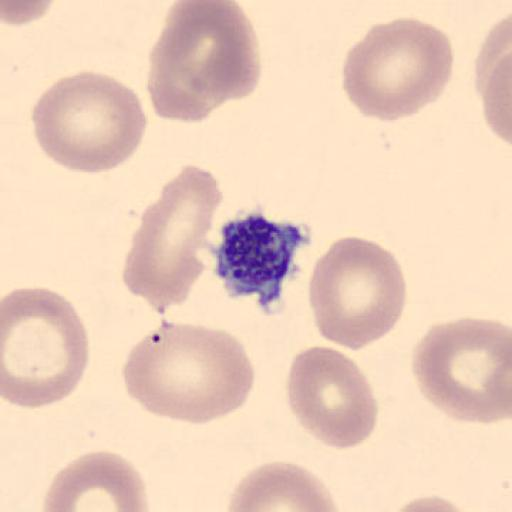Platelet: (211, 209, 308, 310)
RBC: (121, 164, 220, 312), (146, 0, 262, 126), (122, 322, 256, 424), (30, 68, 148, 176), (340, 16, 456, 124), (306, 236, 409, 351), (409, 316, 512, 426), (2, 285, 90, 409), (284, 346, 379, 450), (146, 29, 222, 125), (40, 448, 150, 512), (222, 460, 340, 512), (475, 12, 512, 149), (473, 11, 512, 107), (486, 51, 511, 149), (384, 493, 482, 512), (1, 0, 60, 27)
